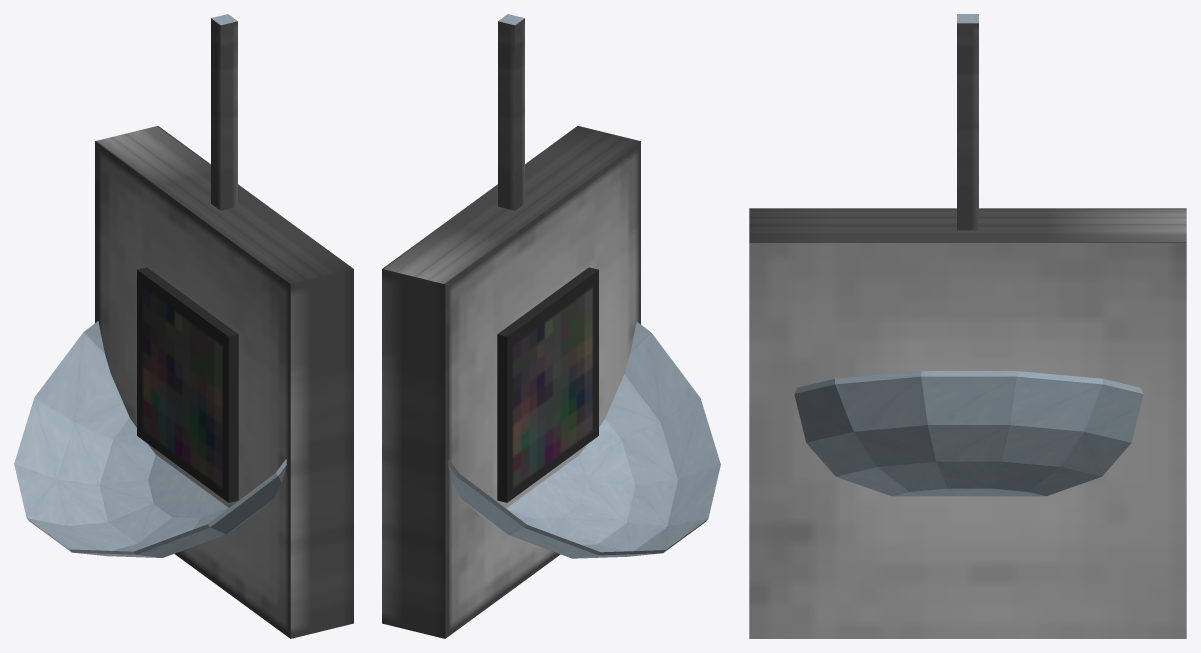
The model's file is telemetry_module.obj.
3 views of the same model, side by side, from view 1: azimuth 30°, elevation 25°; view 2: azimuth 150°, elevation 25°; view 3: azimuth 270°, elevation 25° (orthographic). The views are drawn at different scales.
Visible parts, largest first — view 1: Main, Radar; view 2: Main, Radar; view 3: Main, Radar.
Part boxes in pixels (x1,y1,x2,y2): Main: (95,14,353,638); Radar: (14,321,286,557); Main: (382,14,640,638); Radar: (448,322,720,558); Main: (749,14,1186,638); Radar: (794,371,1143,496).
Bounding box in the file's own units: 0.8296 × 1.6 × 1.05.
